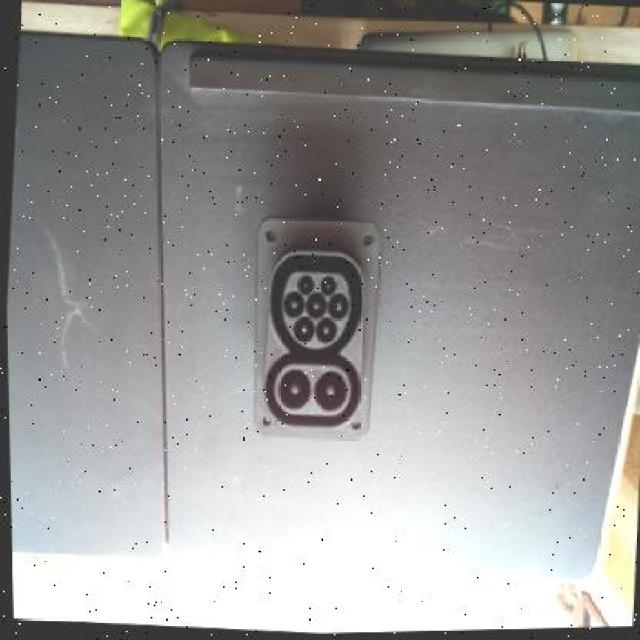CCS2: (251, 218, 379, 446)
